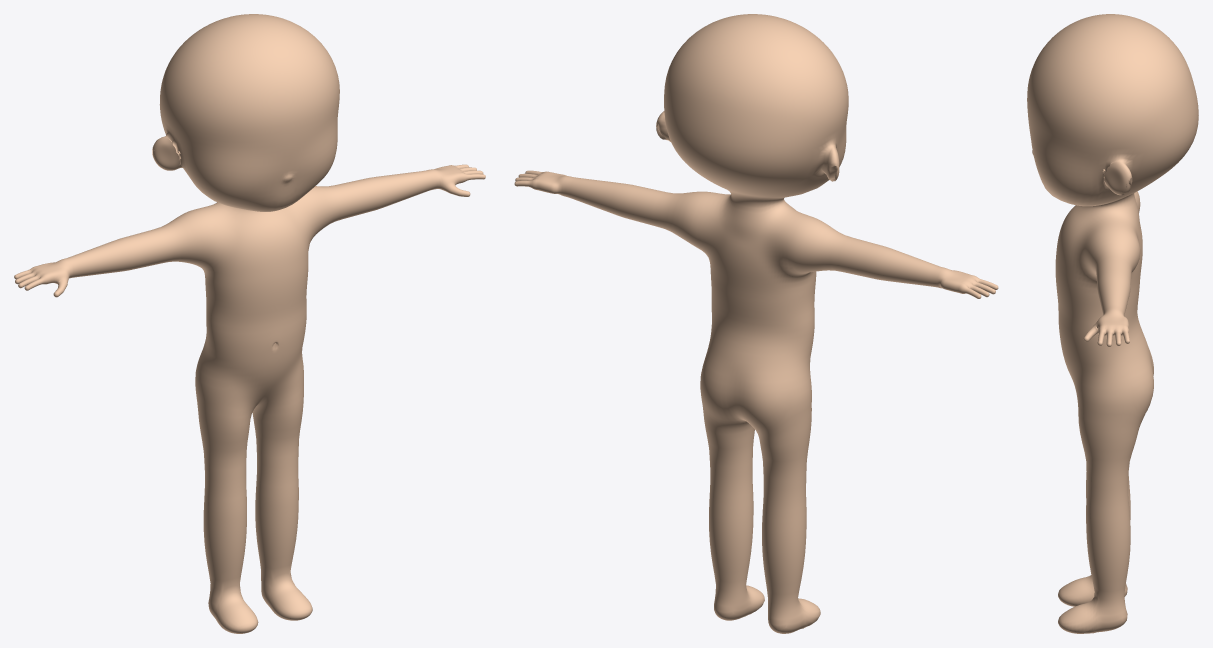
Rendered from male_medium_mesh_only.fbx.
3 renders of one model, left to right at view 1: azimuth 30°, elevation 25°; view 2: azimuth 150°, elevation 25°; view 3: azimuth 270°, elevation 25°, orthographic. The views are drawn at different scales.
Visible parts, largest first — view 1: Body; view 2: Body; view 3: Body.
Boxes of the visible parts, left/top/right/bottom form: Body: left=14, top=14, right=485, bottom=633; Body: left=514, top=14, right=998, bottom=633; Body: left=1027, top=14, right=1198, bottom=633.
Bounding box in the file's own units: 136 × 165 × 43.35.
